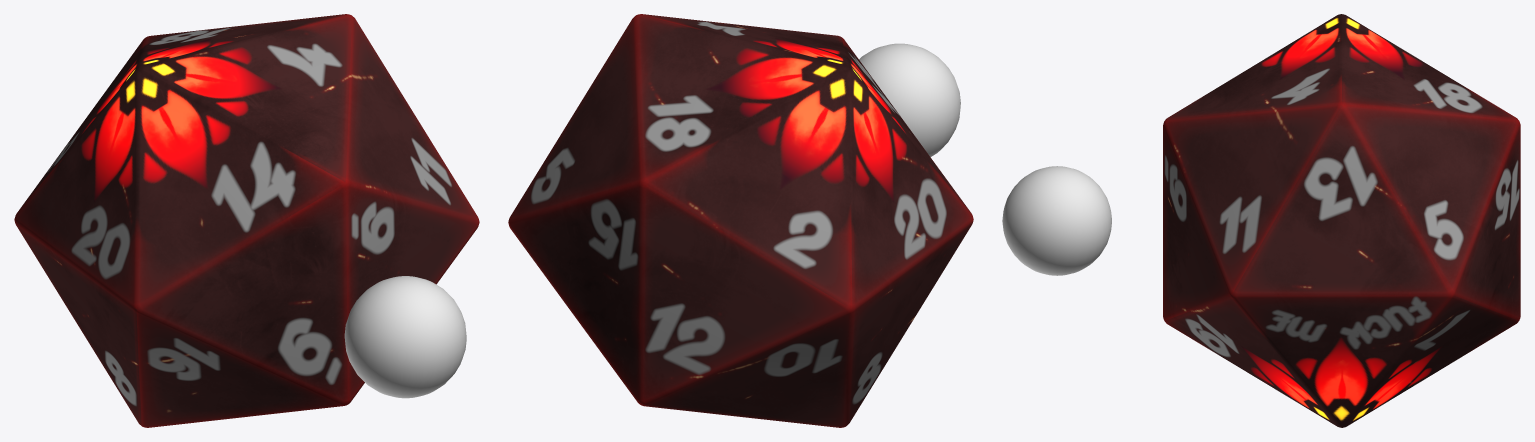
Rendered from anim_dice.glb.
3 views of the same model, side by side, from view 1: azimuth 30°, elevation 25°; view 2: azimuth 150°, elevation 25°; view 3: azimuth 270°, elevation 25° (orthographic). The views are drawn at different scales.
Parts seen in each view (by area): view 1: d20Test, Sphere; view 2: d20Test, Sphere; view 3: d20Test, Sphere.
Part boxes in pixels (bbox=[...]): d20Test: bbox=[14, 14, 479, 427]; Sphere: bbox=[344, 276, 466, 398]; d20Test: bbox=[508, 14, 973, 427]; Sphere: bbox=[859, 43, 960, 157]; d20Test: bbox=[1163, 14, 1520, 427]; Sphere: bbox=[1002, 166, 1111, 275].
Size of the model in its own units: 156 by 157 by 226.
1 material, 1 textured.
